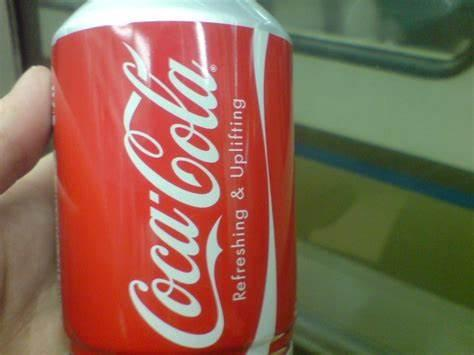metal: (52, 1, 296, 354)
